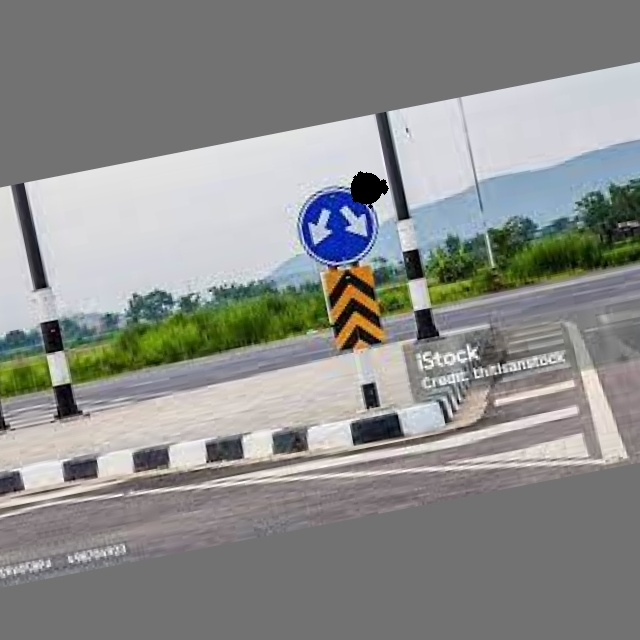Pass_Either_Side: (288, 175, 388, 273)
